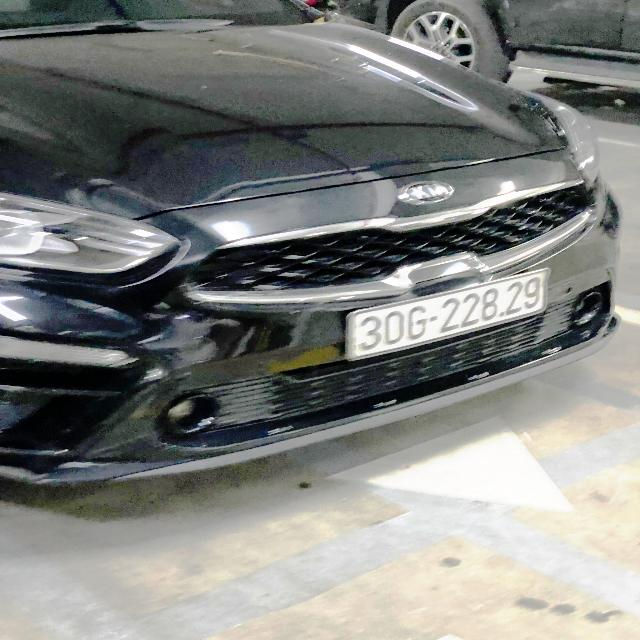license_plate: (351, 265, 550, 363)
